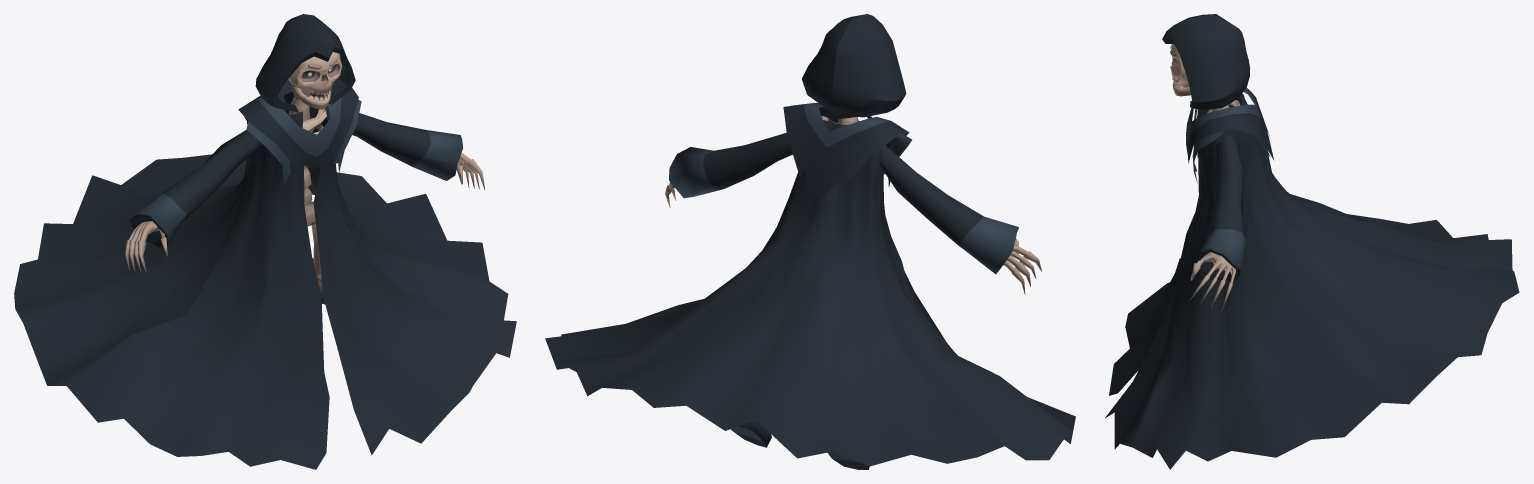
File: sKELETON_with_a_cape_back_up2.fbx
3 views of the same model, side by side, from view 1: azimuth 30°, elevation 25°; view 2: azimuth 150°, elevation 25°; view 3: azimuth 270°, elevation 25° (orthographic). The views are drawn at different scales.
Visible parts, largest first — view 1: cape i like, sleves randomized, Cylinder.005, Plane, Cube.011, Cylinder.007; view 2: cape i like, sleves randomized, Plane, Cylinder.005, Cube.004; view 3: cape i like, Plane, sleves randomized, Cylinder.005, Cube.011.
Boxes of the visible parts, left/top/right/bottom form: cape i like: left=14, top=92, right=516, bottom=469; sleves randomized: left=124, top=113, right=484, bottom=272; Cylinder.005: left=238, top=88, right=361, bottom=185; Plane: left=255, top=14, right=355, bottom=112; Cube.011: left=288, top=52, right=342, bottom=109; Cylinder.007: left=289, top=88, right=315, bottom=226; cape i like: left=545, top=109, right=1075, bottom=466; sleves randomized: left=665, top=133, right=1041, bottom=294; Plane: left=802, top=14, right=906, bottom=118; Cylinder.005: left=783, top=102, right=911, bottom=198; Cube.004: left=731, top=420, right=869, bottom=469; cape i like: left=1105, top=94, right=1519, bottom=469; Plane: left=1162, top=14, right=1250, bottom=109; sleves randomized: left=1189, top=115, right=1245, bottom=310; Cylinder.005: left=1186, top=87, right=1274, bottom=183; Cube.011: left=1170, top=44, right=1190, bottom=96.
Size of the model in its own units: 399 by 346 by 322.
